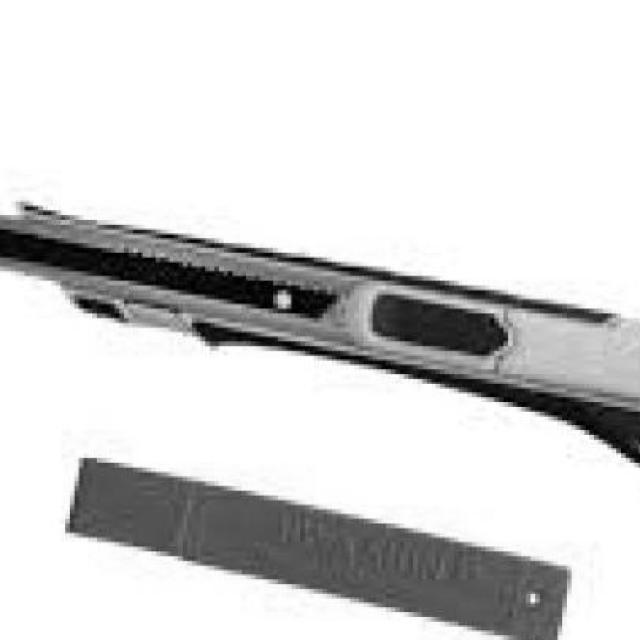estilete: (0, 204, 640, 463)
